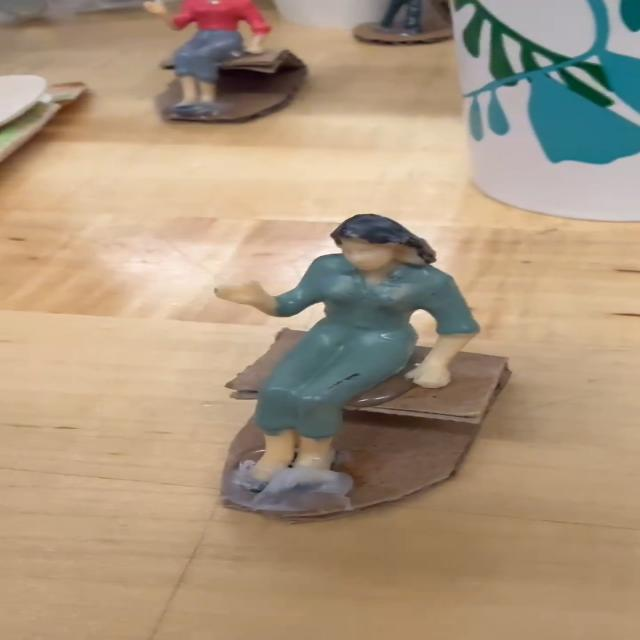Authorized: (209, 212, 481, 511)
